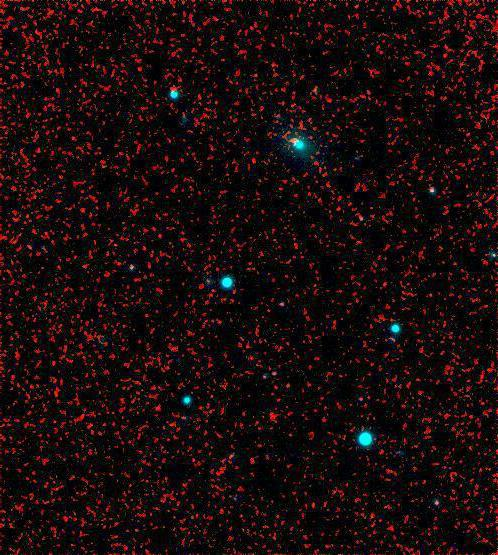star: (257, 401, 287, 431)
